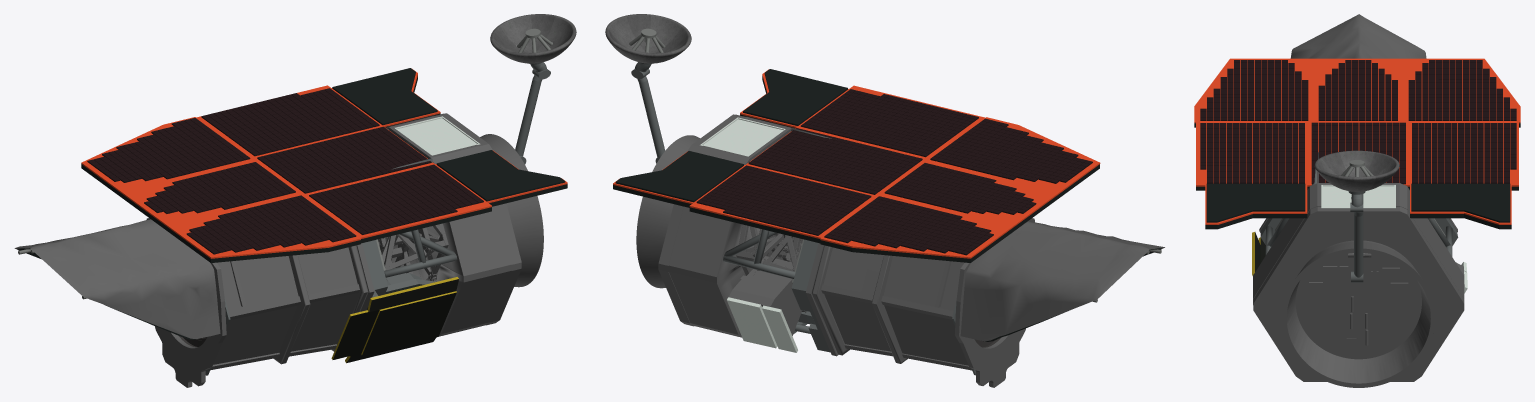
File: roman.glb
3 renders of one model, left to right at view 1: azimuth 30°, elevation 25°; view 2: azimuth 150°, elevation 25°; view 3: azimuth 270°, elevation 25°, orthographic.
Visible parts, largest first — view 1: Empty_Mesh.445, Empty_Mesh, Empty_Mesh.2785, Empty_Mesh.5368, Empty_Mesh.013, Empty_Mesh.3034, Cube, Mid_section_2250608_BOND_LINE_1_body1_157.001, Empty_Mesh.3033; view 2: Empty_Mesh, Empty_Mesh.445, Empty_Mesh.2785, Empty_Mesh.013, Cube, Empty_Mesh.3034, Mid_section_2250608_BOND_LINE_1_body1_157.001; view 3: Empty_Mesh.445, Empty_Mesh, Empty_Mesh.2785, Empty_Mesh.3034, Empty_Mesh.013, Cube.
Part boxes in pixels (left/top/right/bottom): Empty_Mesh.445: left=81, top=28, right=567, bottom=270; Empty_Mesh: left=14, top=113, right=543, bottom=387; Empty_Mesh.2785: left=18, top=68, right=567, bottom=339; Empty_Mesh.5368: left=333, top=279, right=458, bottom=362; Empty_Mesh.013: left=179, top=62, right=550, bottom=375; Empty_Mesh.3034: left=490, top=14, right=576, bottom=63; Cube: left=395, top=116, right=479, bottom=155; Mid_section_2250608_BOND_LINE_1_body1_157.001: left=378, top=223, right=448, bottom=281; Empty_Mesh.3033: left=18, top=249, right=458, bottom=362; Empty_Mesh: left=636, top=114, right=1164, bottom=387; Empty_Mesh.445: left=613, top=28, right=1100, bottom=323; Empty_Mesh.2785: left=613, top=69, right=1161, bottom=341; Empty_Mesh.013: left=631, top=62, right=975, bottom=375; Cube: left=700, top=117, right=797, bottom=352; Empty_Mesh.3034: left=605, top=14, right=691, bottom=63; Mid_section_2250608_BOND_LINE_1_body1_157.001: left=736, top=224, right=804, bottom=311; Empty_Mesh.445: left=1194, top=58, right=1520, bottom=236; Empty_Mesh: left=1253, top=14, right=1464, bottom=387; Empty_Mesh.2785: left=1194, top=123, right=1520, bottom=229; Empty_Mesh.3034: left=1314, top=150, right=1399, bottom=191; Empty_Mesh.013: left=1260, top=152, right=1458, bottom=282; Cube: left=1321, top=185, right=1467, bottom=293.
Bounding box in the file's own units: 344 × 164 × 184.
Materials: 13 (13 with a texture image).
